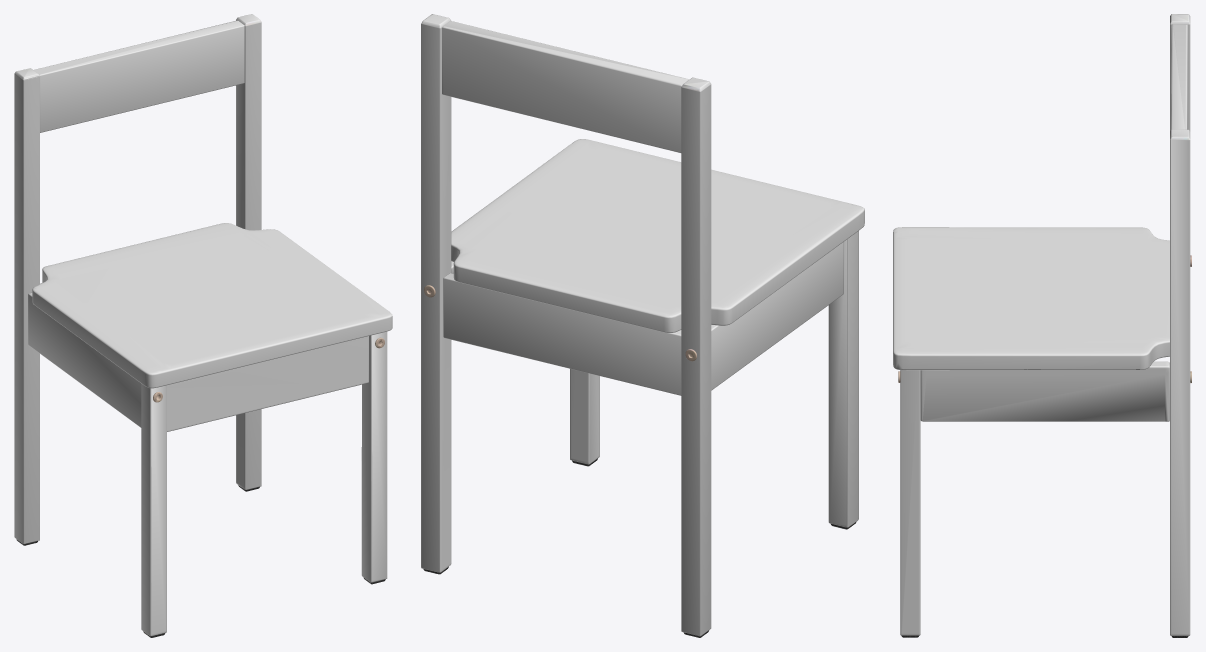
The model's file is kids_chair_abo_B07YBH2SR3.glb.
3 views of the same model, side by side, from view 1: azimuth 30°, elevation 25°; view 2: azimuth 150°, elevation 25°; view 3: azimuth 270°, elevation 25° (orthographic). The views are drawn at different scales.
Visible parts, largest first — view 1: RootNode; view 2: RootNode; view 3: RootNode.
Part boxes in pixels (x1=…): RootNode: x1=14, y1=14, x2=392, y2=637; RootNode: x1=421, y1=14, x2=864, y2=637; RootNode: x1=893, y1=14, x2=1191, y2=637.
Size of the model in its own units: 0.3667 by 0.6679 by 0.3608.
1 material, 1 textured.
